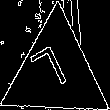L_SE: (33, 42, 79, 102)
